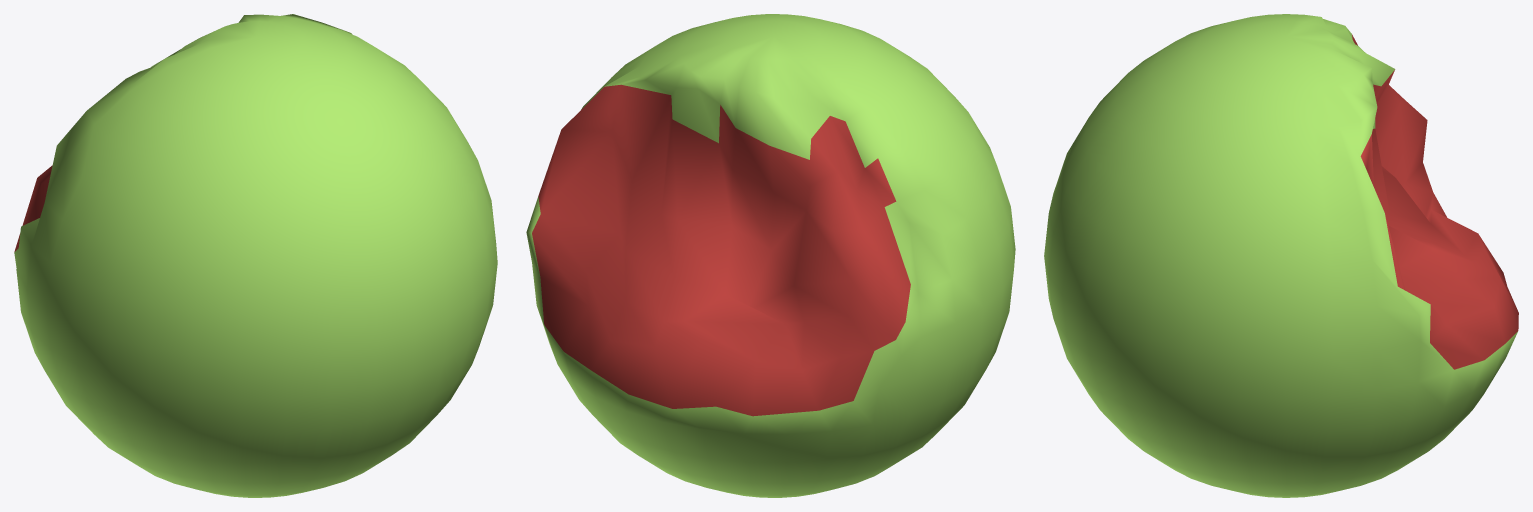
3 views of the same model, side by side, from view 1: azimuth 30°, elevation 25°; view 2: azimuth 150°, elevation 25°; view 3: azimuth 270°, elevation 25° (orthographic).
Visible parts, largest first — view 1: Head.005; view 2: Head.005; view 3: Head.005.
Boxes of the visible parts, x1,y1,x2,y2 form: Head.005: [14, 14, 497, 497]; Head.005: [526, 14, 1015, 497]; Head.005: [1044, 14, 1518, 497].
Bounding box in the file's own units: 69.22 × 69.22 × 67.83.
